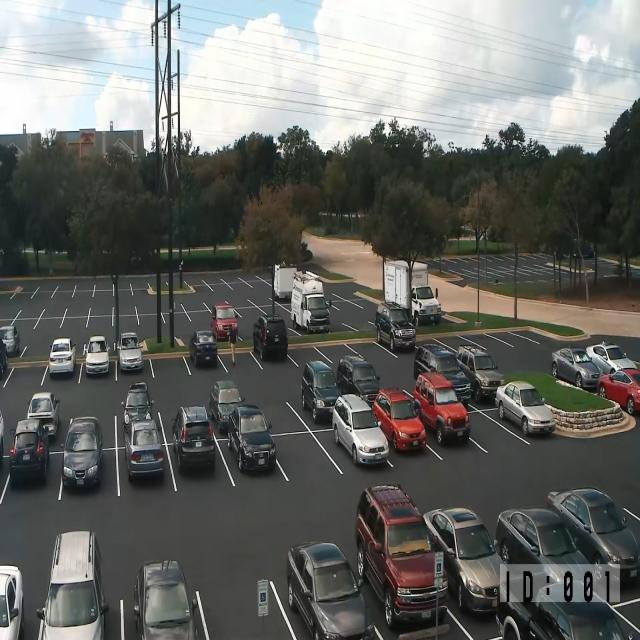space-empty: (197, 563, 298, 639), (276, 430, 331, 484), (243, 388, 300, 435), (158, 392, 210, 439), (469, 409, 516, 454), (68, 406, 117, 448), (152, 342, 189, 383), (228, 336, 260, 381), (7, 358, 46, 392), (287, 337, 324, 372), (618, 593, 639, 637), (22, 333, 54, 360), (348, 334, 381, 359), (324, 300, 345, 335), (266, 303, 292, 328), (112, 290, 136, 316), (101, 326, 122, 355), (134, 289, 158, 314), (90, 290, 113, 316), (68, 291, 92, 315), (237, 302, 261, 323), (37, 316, 63, 333), (163, 313, 190, 329), (63, 314, 88, 331), (137, 316, 166, 330), (183, 296, 206, 312), (112, 315, 138, 328), (17, 306, 40, 320), (189, 310, 213, 323), (0, 303, 17, 320), (89, 316, 112, 328), (190, 281, 210, 293), (38, 279, 56, 292), (56, 279, 74, 292), (19, 279, 36, 292), (248, 280, 270, 290), (229, 280, 248, 291), (0, 279, 16, 292), (96, 280, 113, 292), (42, 308, 66, 316), (227, 297, 250, 305), (242, 272, 260, 282), (54, 292, 72, 301), (204, 299, 227, 306), (210, 284, 230, 292), (74, 291, 93, 299), (36, 290, 51, 300), (76, 282, 94, 290), (224, 275, 242, 282), (132, 280, 149, 287), (204, 278, 223, 284), (115, 282, 131, 289)
space-occupied: (358, 514, 452, 640), (553, 505, 640, 606), (286, 544, 368, 639), (442, 512, 500, 624), (120, 576, 208, 638), (510, 510, 578, 590), (37, 580, 125, 640), (510, 600, 639, 639), (329, 413, 386, 477), (60, 446, 118, 505), (118, 444, 174, 502), (172, 439, 228, 496), (6, 448, 62, 505), (423, 400, 475, 461), (226, 435, 280, 492), (501, 394, 557, 447), (0, 574, 39, 639), (18, 400, 67, 449), (296, 378, 340, 430), (117, 394, 161, 446), (252, 326, 293, 376), (206, 388, 247, 436), (333, 358, 380, 399), (186, 332, 223, 380), (116, 340, 152, 384), (424, 347, 464, 386), (382, 324, 418, 362), (46, 354, 81, 390), (82, 353, 116, 388), (466, 348, 494, 390), (296, 303, 328, 338), (210, 306, 236, 335)
